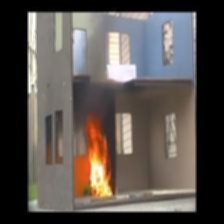fire: (80, 120, 116, 195)
